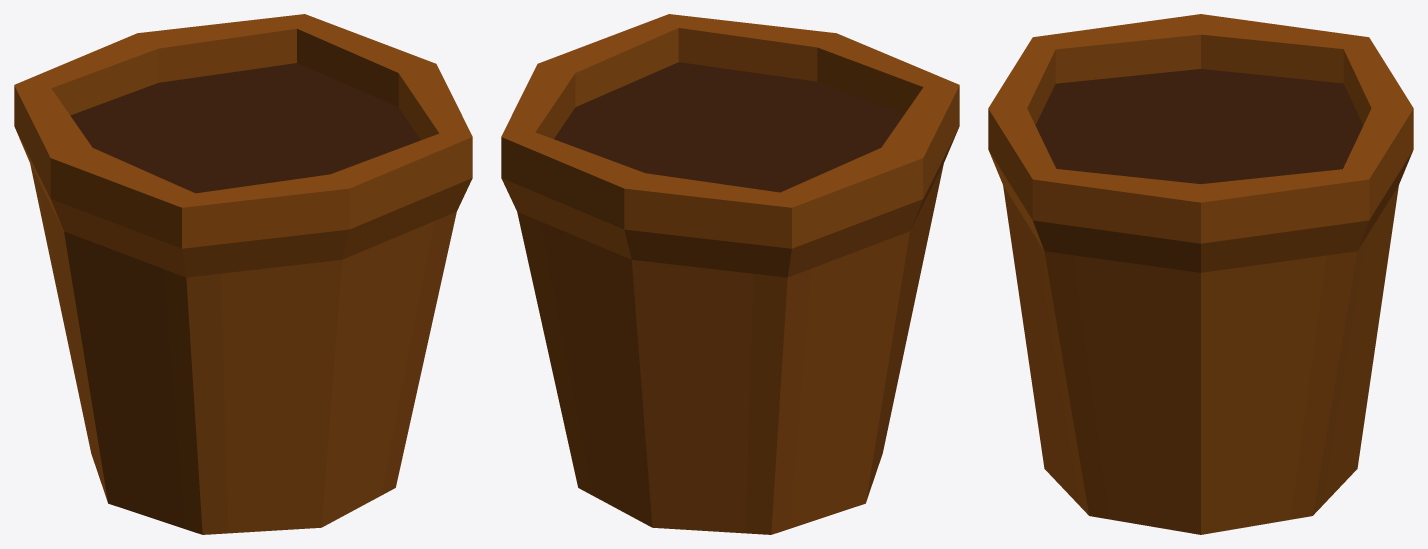
The model's file is saksı1.fbx.
3 renders of one model, left to right at view 1: azimuth 30°, elevation 25°; view 2: azimuth 150°, elevation 25°; view 3: azimuth 270°, elevation 25°, orthographic.
Parts seen in each view (by area): view 1: Cube; view 2: Cube; view 3: Cube.
Boxes of the visible parts, x1=… form: Cube: x1=14, y1=14, x2=472, y2=534; Cube: x1=501, y1=14, x2=959, y2=534; Cube: x1=988, y1=14, x2=1413, y2=534.
Size of the model in its own units: 272 by 285 by 254.
